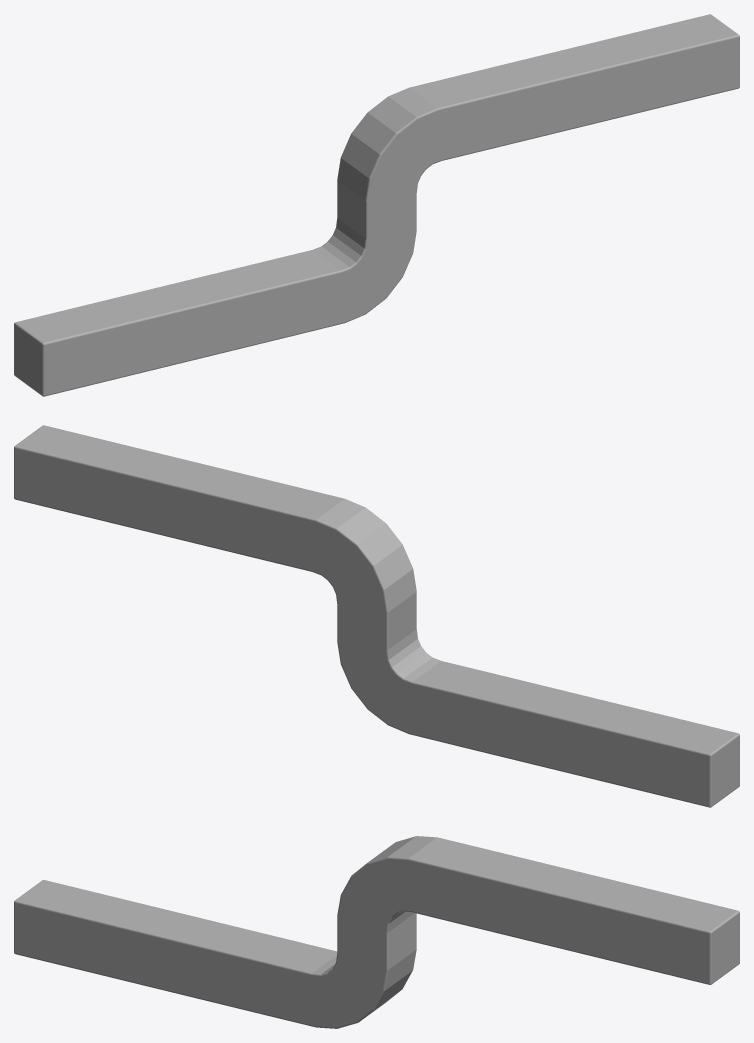
Rendered from AirVentShaft-S.fbx.
3 views of the same model, one above another, from view 1: azimuth 30°, elevation 25°; view 2: azimuth 150°, elevation 25°; view 3: azimuth 330°, elevation 25° (orthographic).
Visible parts, largest first — view 1: Cube; view 2: Cube; view 3: Cube.
Part boxes in pixels (x1,y1,x2,y2): Cube: (14,14,739,396); Cube: (14,425,739,807); Cube: (14,836,739,1028).
Bounding box in the file's own units: 1800 × 474 × 132.
1 material, 1 textured.
